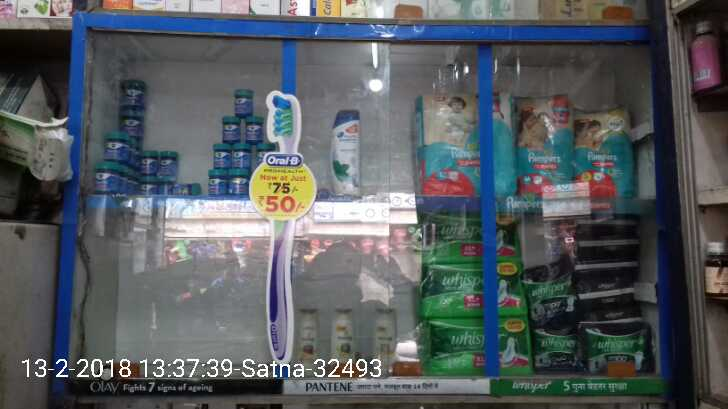beauty: (331, 105, 366, 198), (329, 307, 358, 364), (373, 313, 397, 374), (292, 306, 318, 362)
pharmacy: (413, 90, 517, 201), (424, 314, 528, 376), (512, 94, 570, 195), (574, 102, 631, 201), (421, 262, 521, 318), (419, 210, 519, 265), (579, 320, 653, 377), (519, 257, 571, 323), (532, 321, 582, 378), (90, 161, 115, 195), (119, 75, 145, 107), (216, 113, 241, 145), (117, 107, 144, 135), (233, 84, 253, 117), (100, 133, 121, 163), (242, 115, 263, 141), (131, 176, 156, 197), (211, 142, 229, 171), (206, 168, 225, 195), (227, 169, 245, 197), (159, 146, 177, 173), (134, 150, 155, 173), (228, 147, 248, 170)
